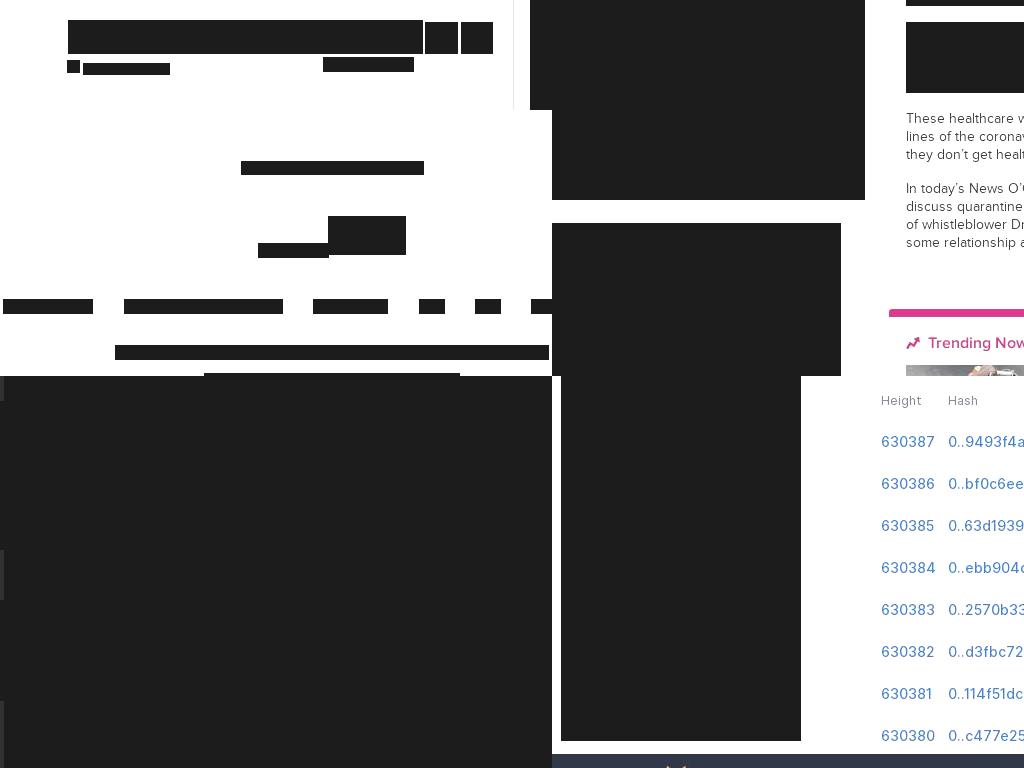button: (552, 223, 841, 376), (561, 381, 801, 421), (561, 421, 801, 461), (561, 461, 801, 501), (561, 501, 801, 541), (561, 541, 801, 581), (561, 581, 801, 621), (561, 621, 801, 661), (561, 661, 801, 701), (561, 701, 801, 741), (561, 741, 801, 768), (323, 57, 414, 72), (948, 433, 1024, 450), (948, 475, 1024, 492), (948, 517, 1024, 534), (948, 559, 1024, 576), (948, 601, 1024, 618), (948, 643, 1024, 660), (948, 685, 1024, 702), (948, 727, 1024, 744), (881, 433, 949, 450), (881, 475, 949, 492), (881, 517, 949, 534), (881, 559, 949, 576), (881, 601, 949, 618), (881, 643, 949, 660), (881, 685, 949, 702), (881, 727, 949, 744)
field: (68, 20, 423, 54), (425, 22, 458, 54), (461, 22, 493, 54), (67, 60, 80, 73)
heading: (552, 223, 841, 376), (928, 333, 1024, 353), (906, 0, 1024, 6)
image: (4, 376, 552, 768), (552, 0, 865, 200), (328, 216, 406, 255)
link: (267, 345, 549, 360), (124, 299, 283, 314), (3, 299, 93, 314), (313, 299, 388, 314), (305, 161, 367, 175), (376, 161, 424, 175), (276, 373, 460, 376), (419, 299, 445, 314), (475, 299, 501, 314), (531, 299, 552, 314)
text: (906, 22, 1024, 93), (906, 180, 1024, 251), (906, 110, 1024, 163), (115, 345, 269, 360), (629, 392, 749, 410), (629, 432, 749, 450), (629, 472, 749, 490), (629, 512, 749, 530), (629, 552, 749, 570), (629, 592, 749, 610), (629, 632, 749, 650), (629, 672, 749, 690), (629, 712, 749, 730), (629, 752, 749, 768), (258, 243, 329, 258), (83, 63, 170, 75), (241, 161, 306, 175), (881, 393, 923, 408), (948, 393, 979, 408), (204, 373, 278, 376), (366, 161, 377, 175)
